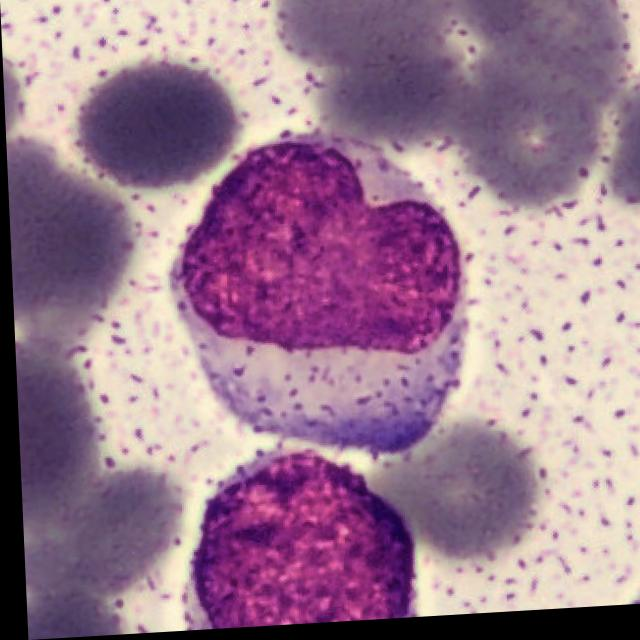Mieloblasto: (175, 144, 465, 464)
